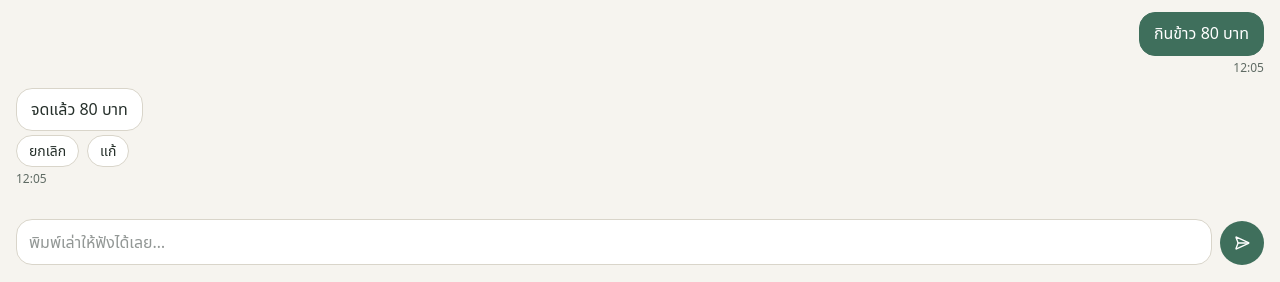
Test case: undo marks the bubble cancelled and hides buttons
Click the button "ยกเลิก".
click(48, 151)  # box [16,135,79,167]
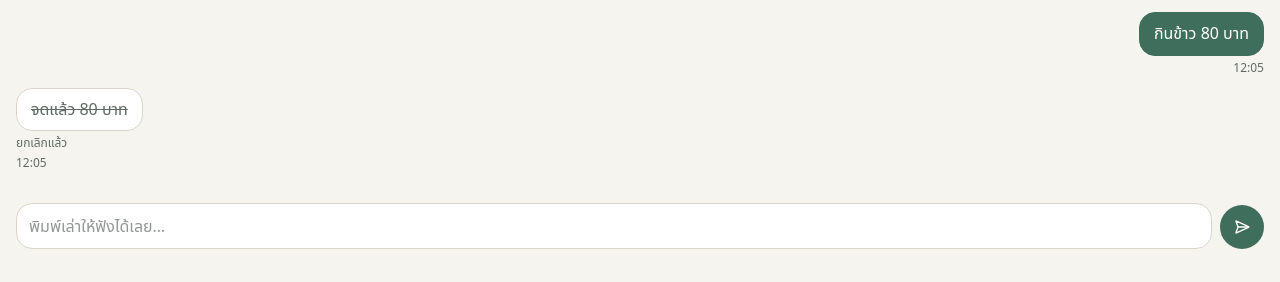
expect the text "ยกเลิกแล้ว" is shown: met, box [16,135,67,151]
expect the button "แก้" is gone: met
